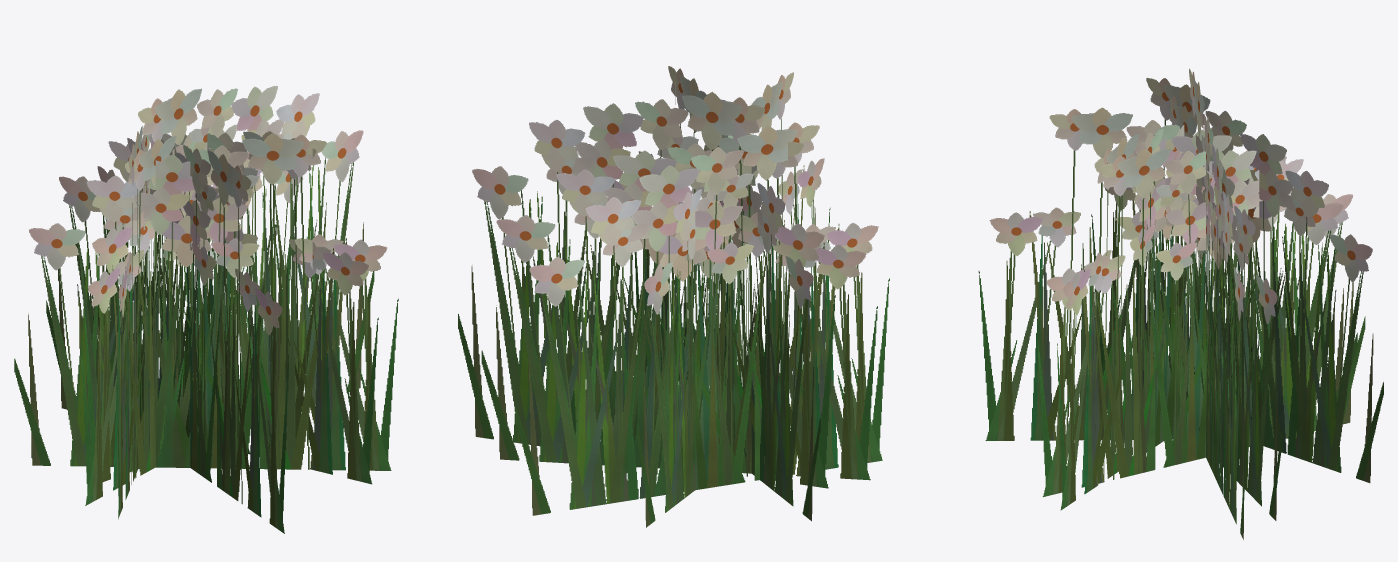
File: Flower_Garden_2.gltf
3 views of the same model, side by side, from view 1: azimuth 30°, elevation 25°; view 2: azimuth 150°, elevation 25°; view 3: azimuth 270°, elevation 25° (orthographic). The views are drawn at different scales.
Visible parts, largest first — view 1: Flower_Garden_2; view 2: Flower_Garden_2; view 3: Flower_Garden_2.
Boxes of the visible parts, x1,y1,x2,y2 form: Flower_Garden_2: (14, 86, 398, 533); Flower_Garden_2: (458, 66, 889, 527); Flower_Garden_2: (978, 68, 1383, 539).
Size of the model in its own units: 0.8968 by 0.847 by 0.9191.
1 material, 1 textured.
